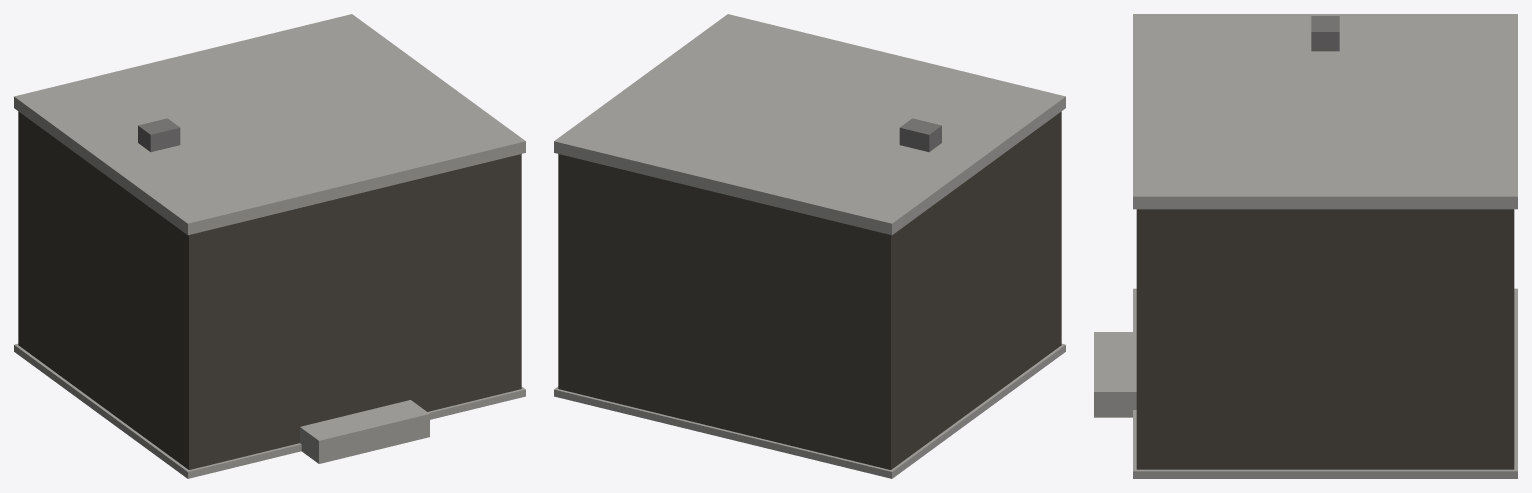
File: b_ware3.glb
3 views of the same model, side by side, from view 1: azimuth 30°, elevation 25°; view 2: azimuth 150°, elevation 25°; view 3: azimuth 270°, elevation 25° (orthographic). The views are drawn at different scales.
Visible parts, largest first — view 1: Building; view 2: Building; view 3: Building.
Part boxes in pixels (bbox=[...]): Building: bbox=[14, 14, 525, 478]; Building: bbox=[554, 14, 1065, 478]; Building: bbox=[1094, 14, 1517, 478].
Size of the model in its own units: 18.3 by 14.2 by 17.95.
4 materials, 2 textured.
